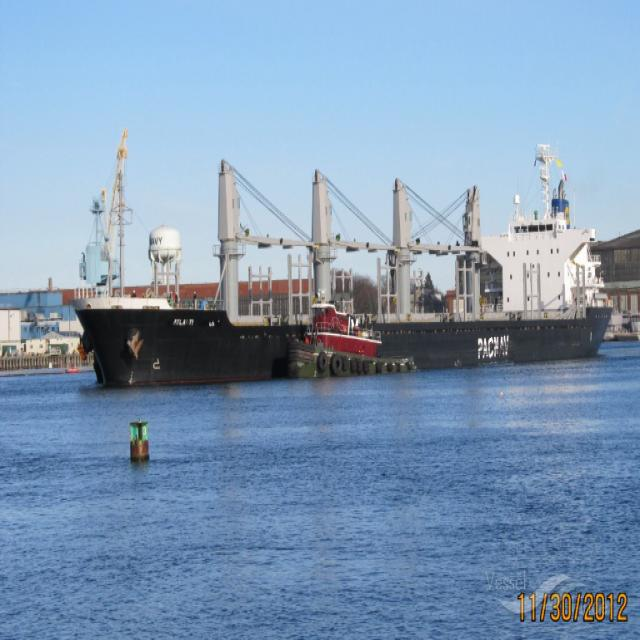OCR: (470, 331, 514, 368)
